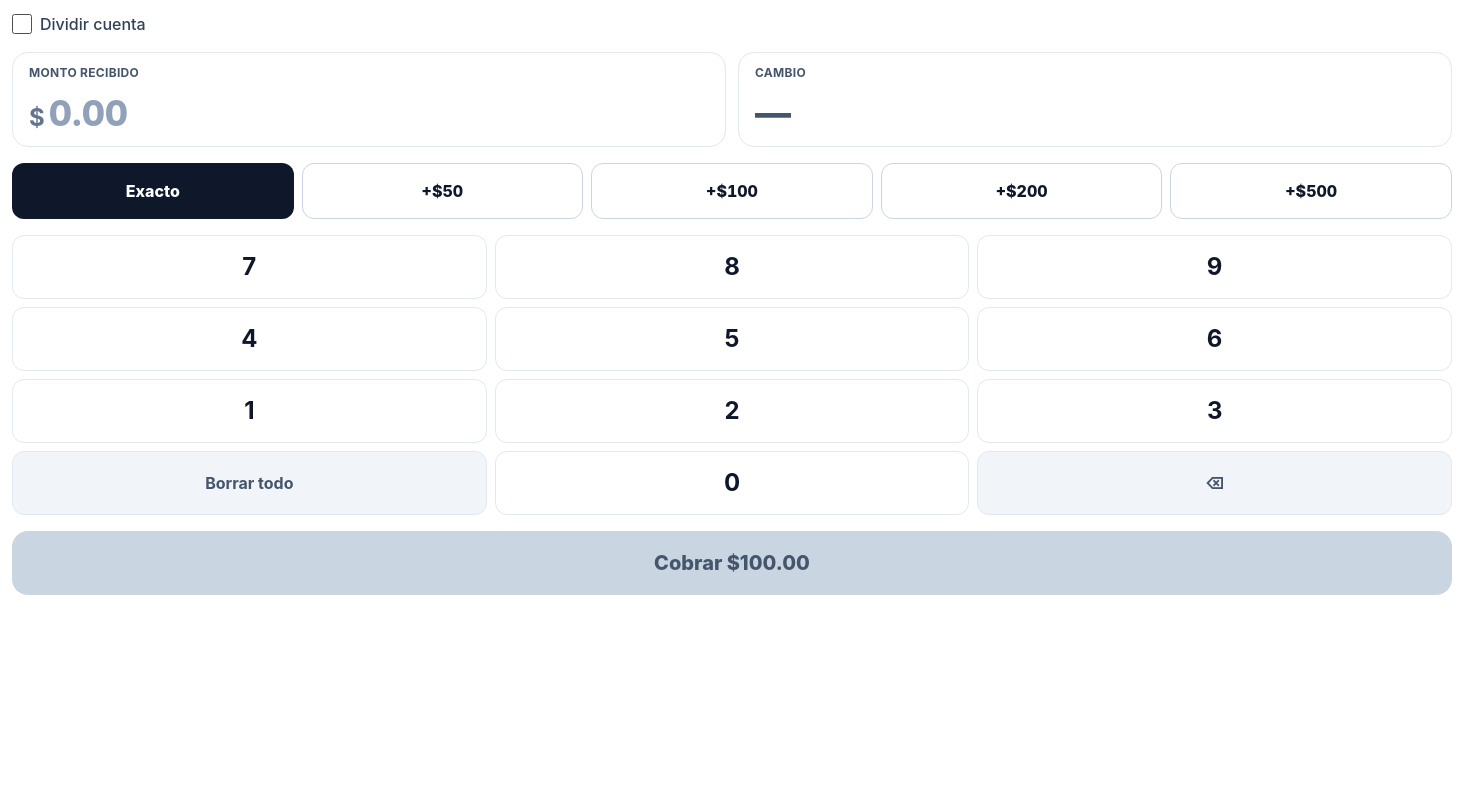
CheckoutForm split bill › clears the charges when the number of people changes
Click the checkbox labelled "Dividir cuenta": (22, 24) [12,14,32,34]
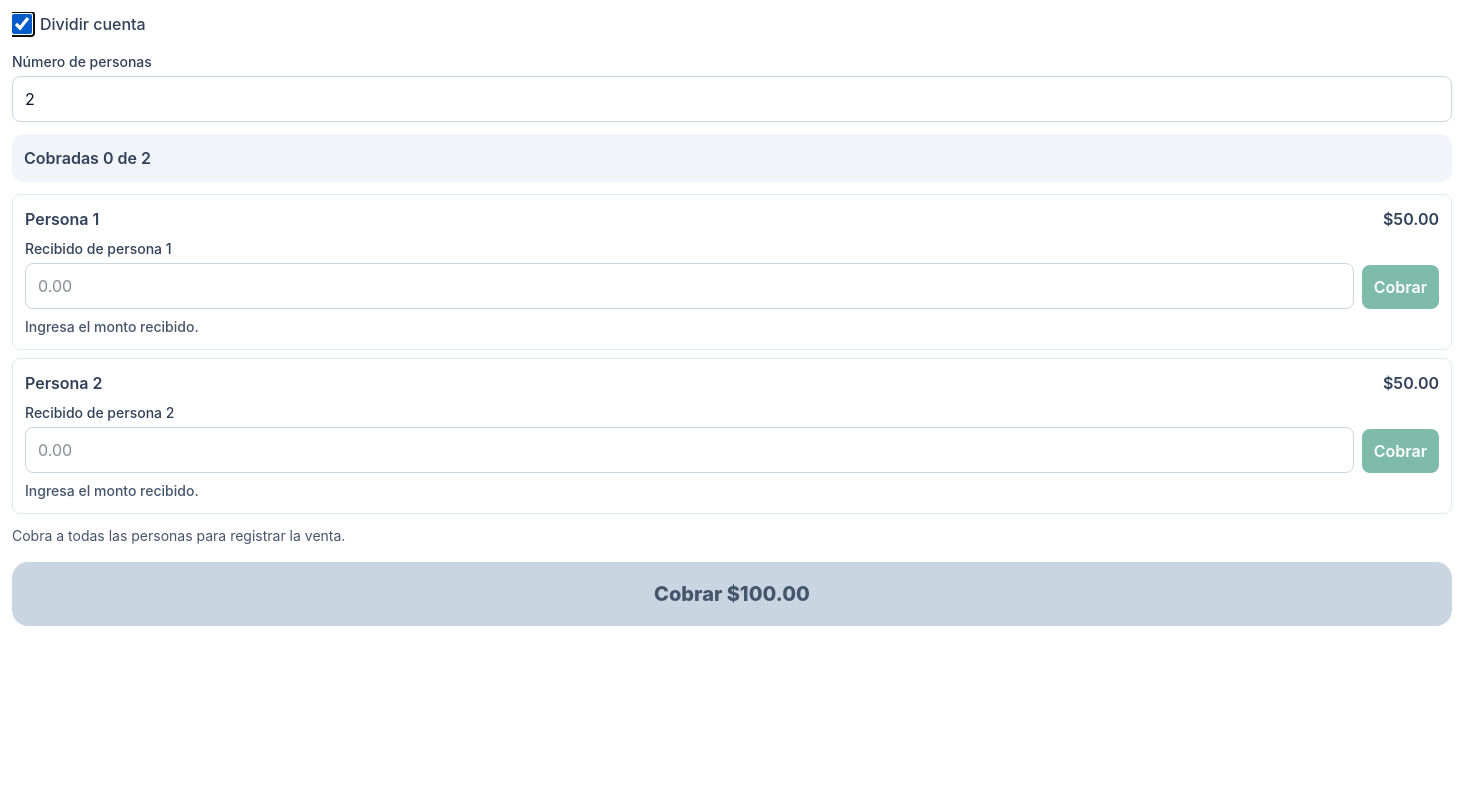
In the field labelled "Recibido de persona 1": (689, 286) [25,263,1354,309], type "50"
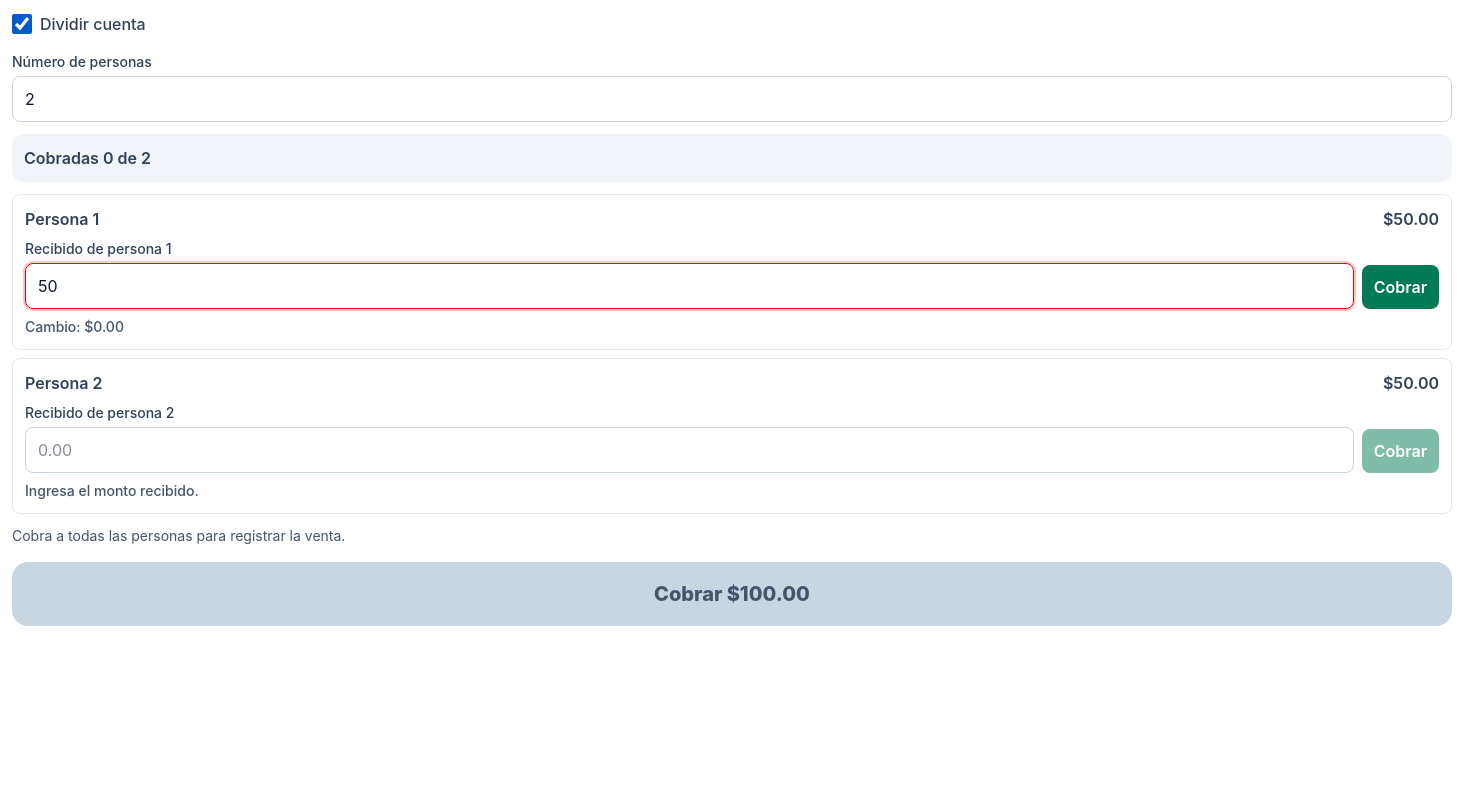
Click the button with aria-label "Cobrar persona 1": (1400, 287) [1362,265,1439,309]
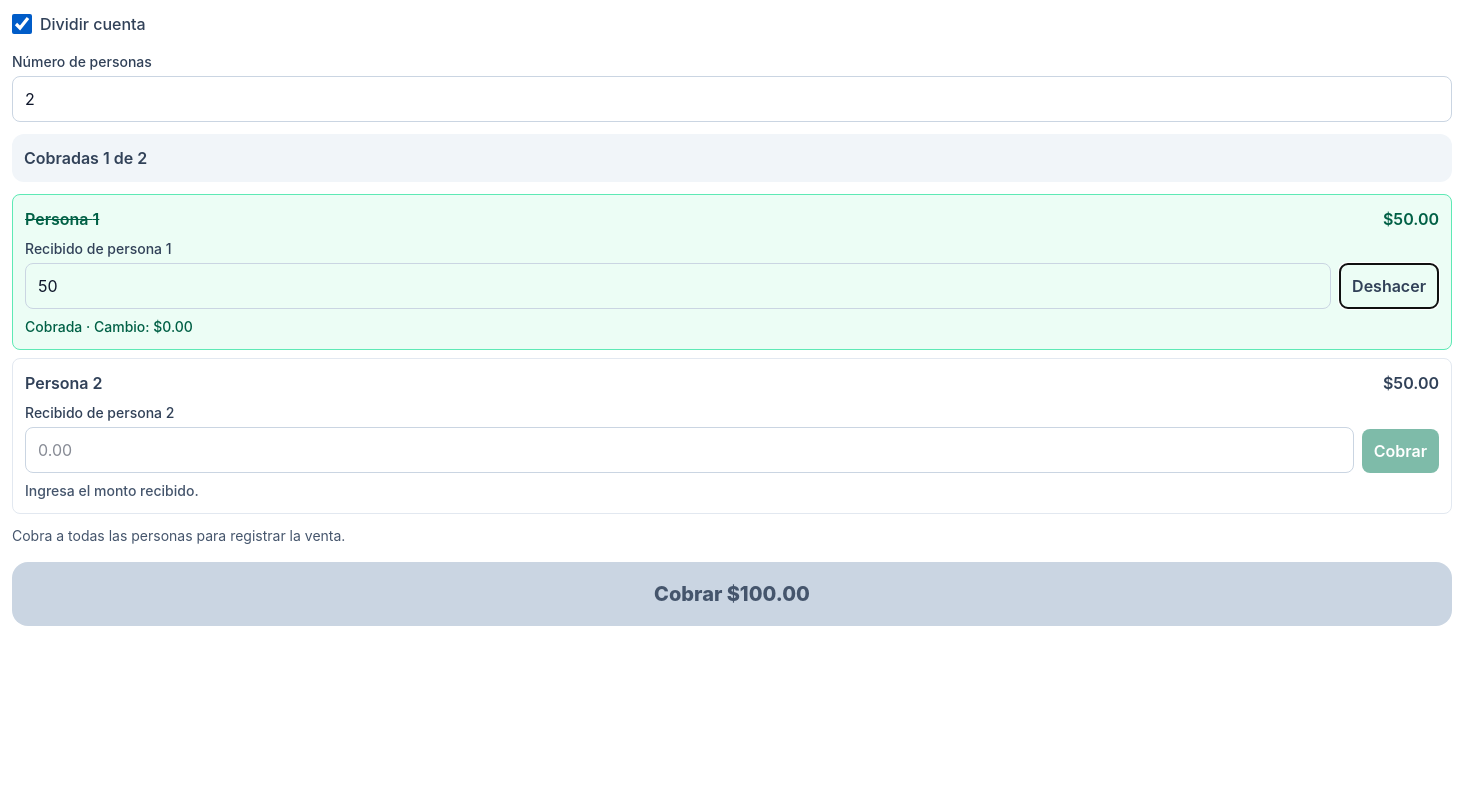
Replace the text in the number field labelled "Número de personas" with "4": (732, 99) [12,76,1452,122]
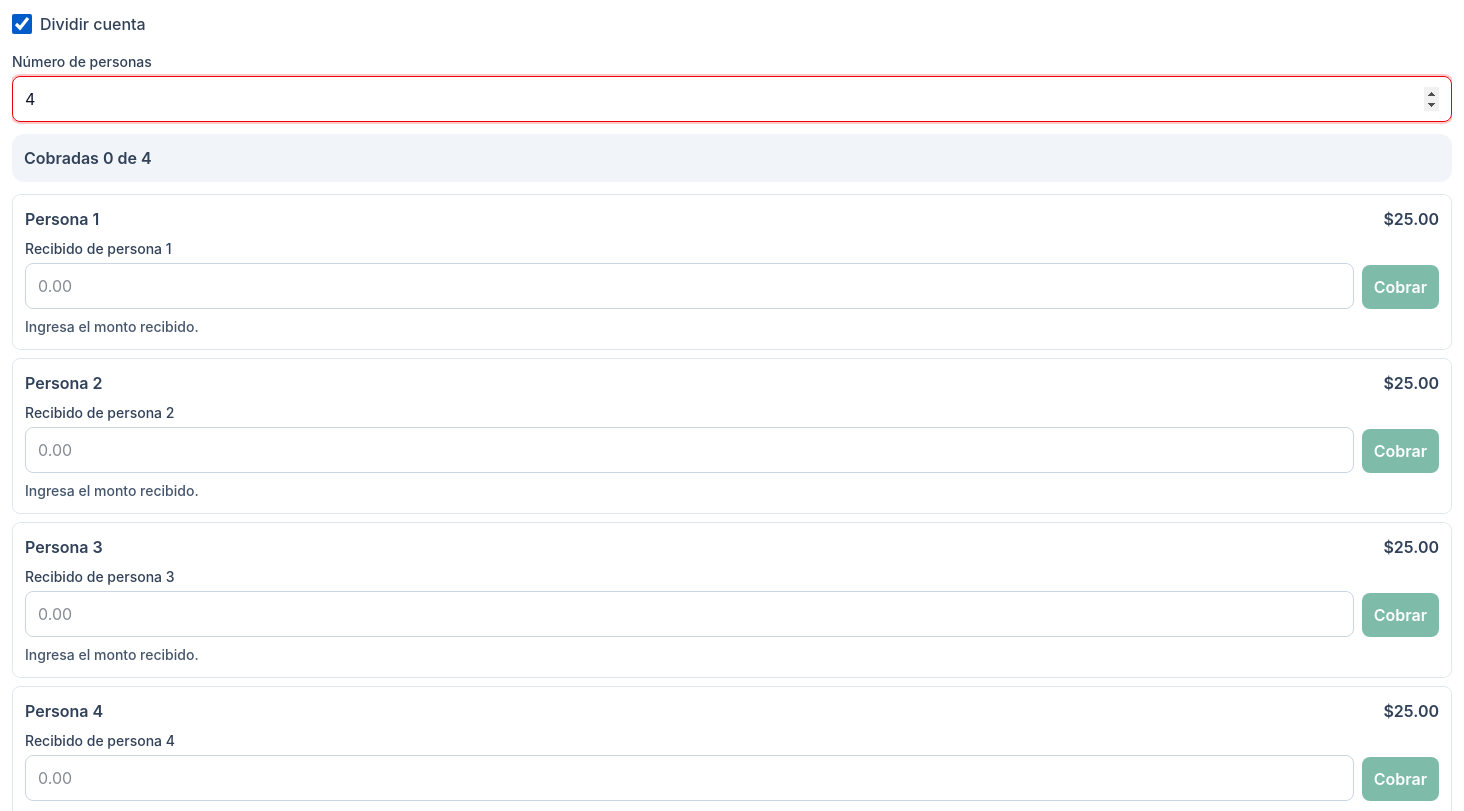
Expected: the text "Cobradas 0 de 4" is shown, [12,134,1452,182]
Expected: the field labelled "Recibido de persona 1" is empty, [25,263,1354,309]
